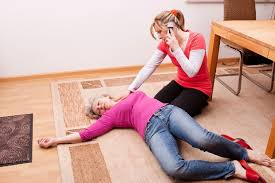fall: (26, 85, 275, 179)
